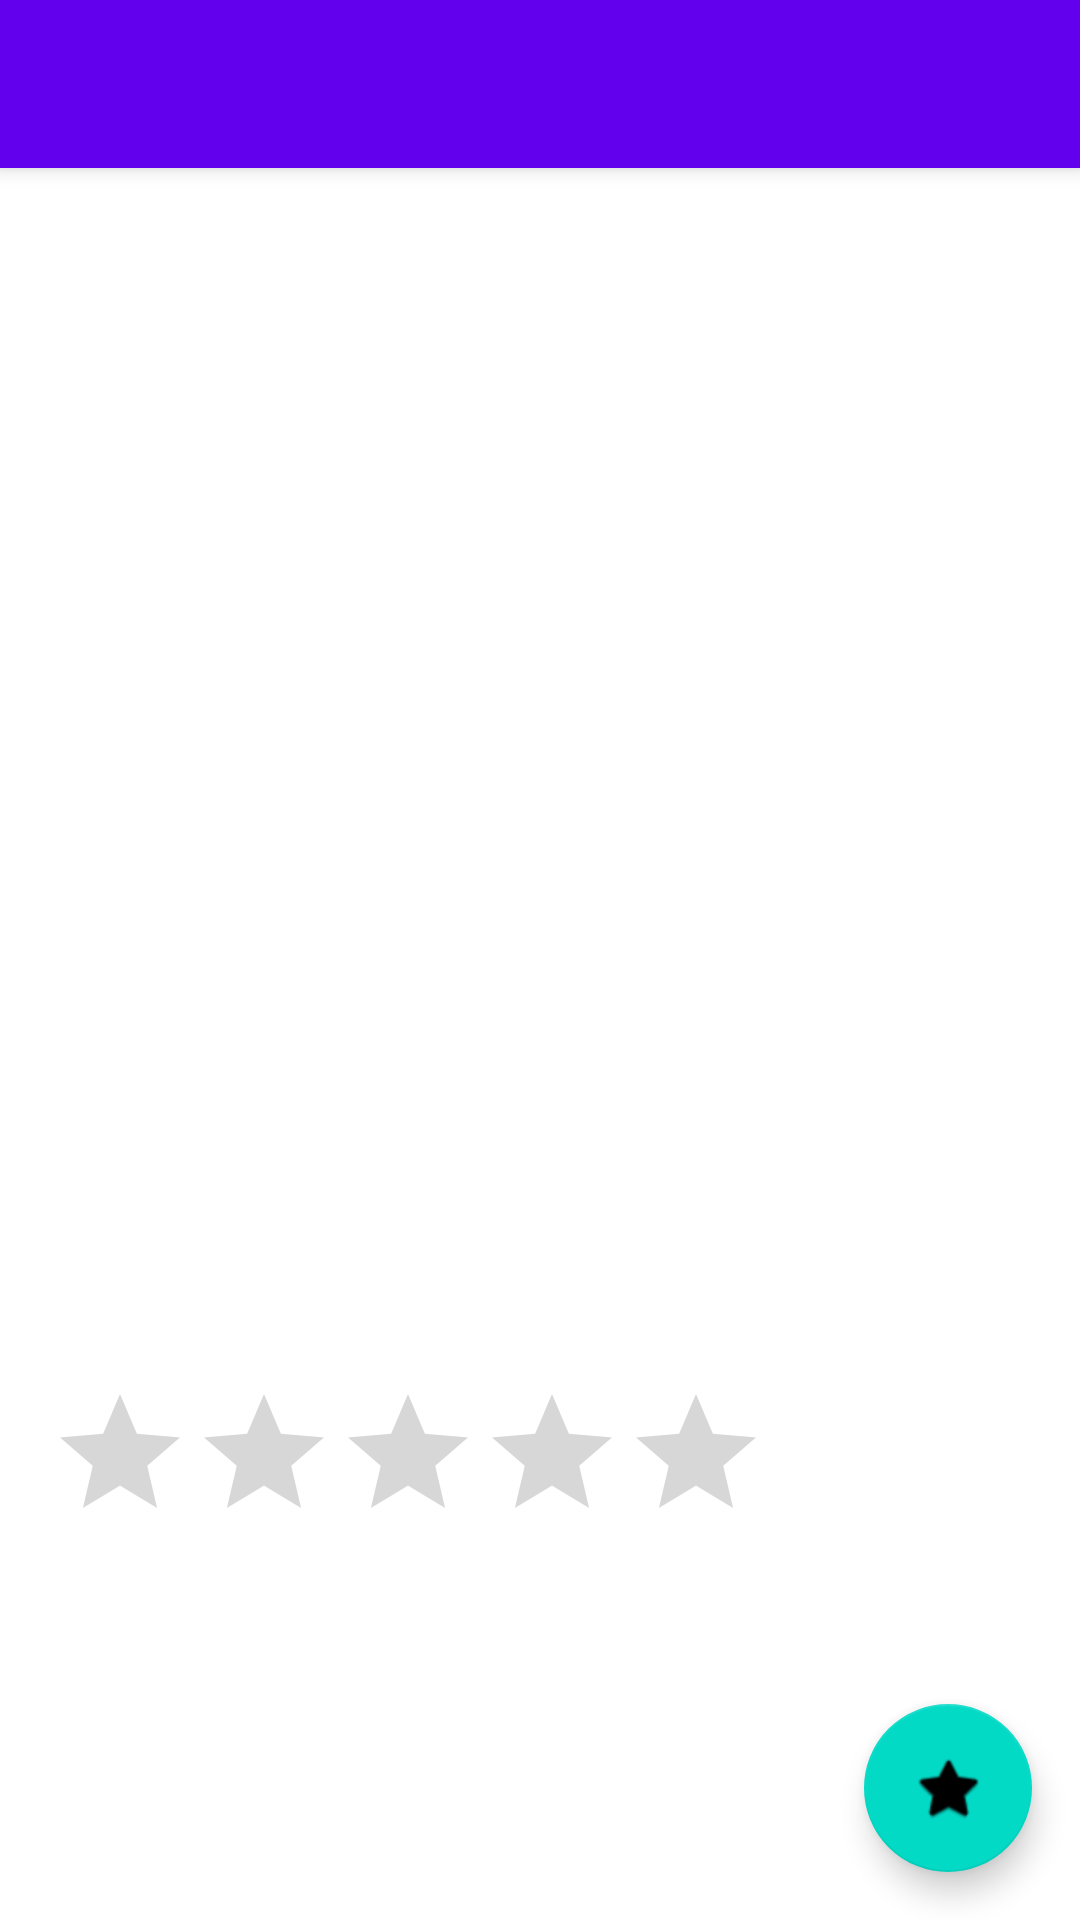

Icon bounding boxes for this 1080px x 1920px phone screenshot, format detection(x1, y1, x2, y2):
star: detection(864, 1704, 1032, 1872)
